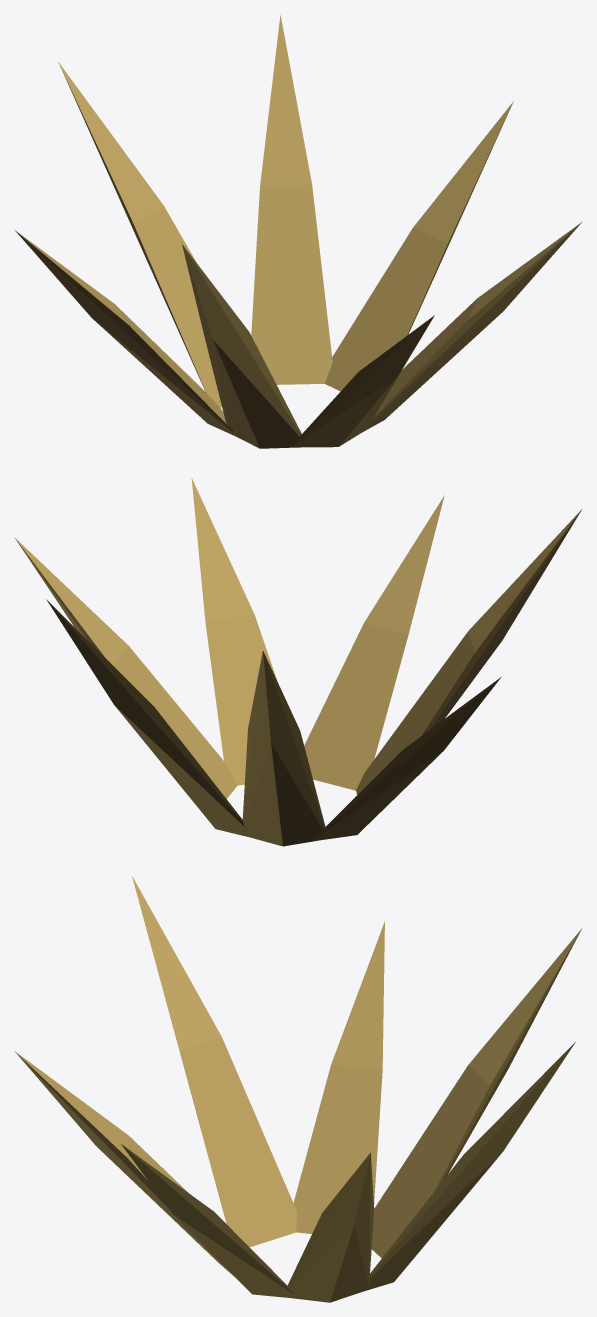
File: TW_VEG_GRASS_LOW_B_LOD0.glb
The picture shows the model from 3 angles, top to bottom: view 1: azimuth 30°, elevation 25°; view 2: azimuth 150°, elevation 25°; view 3: azimuth 270°, elevation 25°; orthographic projection.
Visible parts, largest first — view 1: TW_VEG_GRASS_LOW_B_LOD0; view 2: TW_VEG_GRASS_LOW_B_LOD0; view 3: TW_VEG_GRASS_LOW_B_LOD0.
Part boxes in pixels (x1=…): TW_VEG_GRASS_LOW_B_LOD0: x1=15, y1=14, x2=581, y2=448; TW_VEG_GRASS_LOW_B_LOD0: x1=14, y1=478, x2=581, y2=846; TW_VEG_GRASS_LOW_B_LOD0: x1=14, y1=876, x2=582, y2=1302.
Bounding box in the file's own units: 0.4581 × 0.2517 × 0.4491.
1 material, 1 textured.
